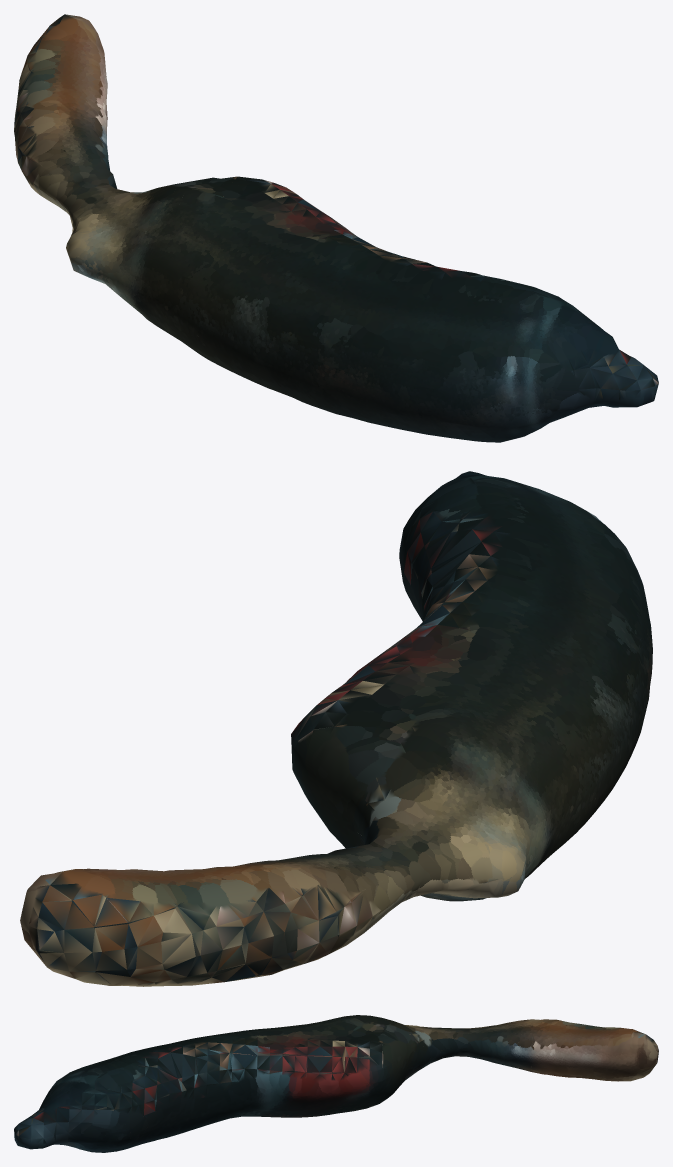
File: weldinggun_new_egocentric.fbx
The picture shows the model from 3 angles, top to bottom: view 1: azimuth 30°, elevation 25°; view 2: azimuth 150°, elevation 25°; view 3: azimuth 270°, elevation 25°; orthographic projection. The views are drawn at different scales.
Visible parts, largest first — view 1: weldinggun_new; view 2: weldinggun_new; view 3: weldinggun_new.
Boxes of the visible parts, x1,y1,x2,y2 form: weldinggun_new: (14,14,658,442); weldinggun_new: (20,471,652,986); weldinggun_new: (14,1015,658,1152).
Bounding box in the file's own units: 12.12 × 5.41 × 30.38.
1 material, 1 textured.
